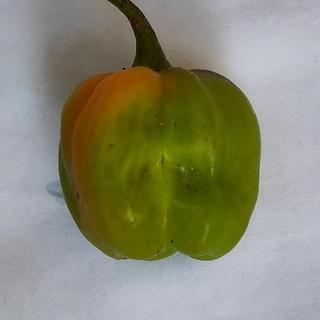Fly-bites: (171, 119, 181, 129), (169, 238, 176, 246)
